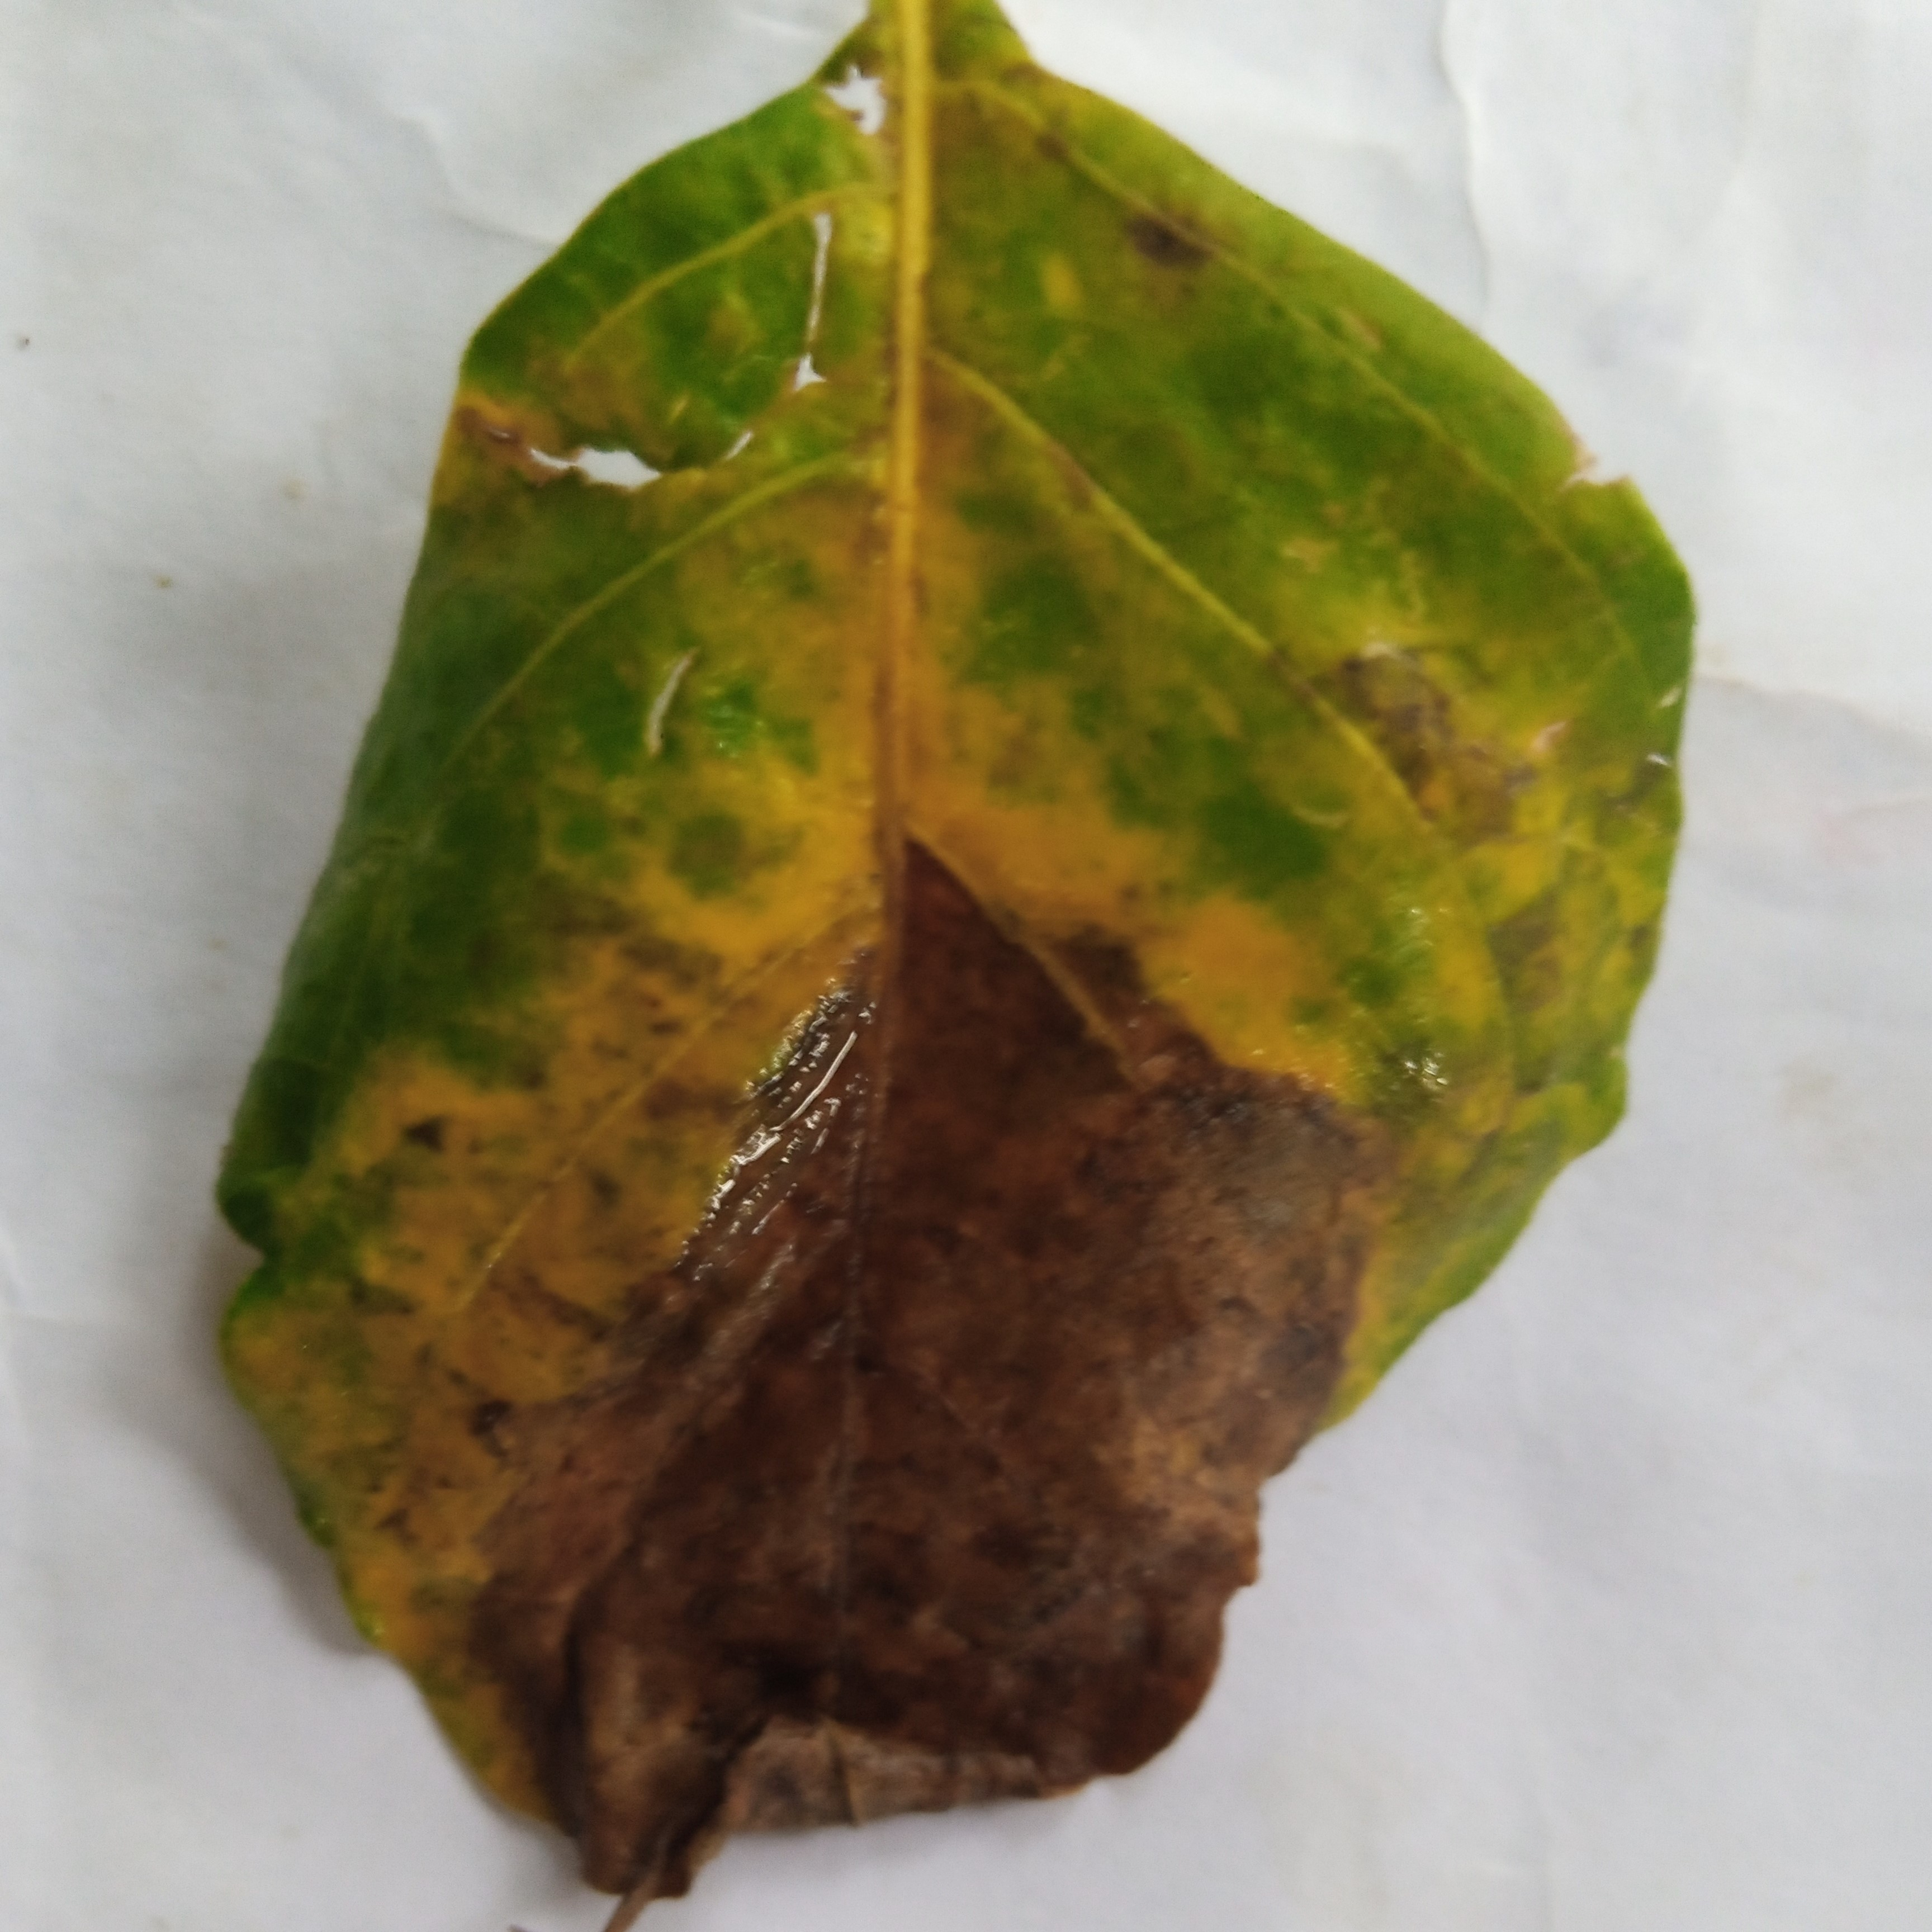Leaf: (142, 30, 1773, 1932)
